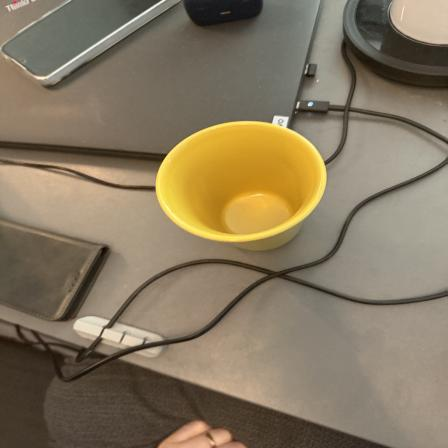phone: (0, 0, 191, 88), (0, 211, 112, 323)
yellow_cup: (153, 119, 336, 253)
